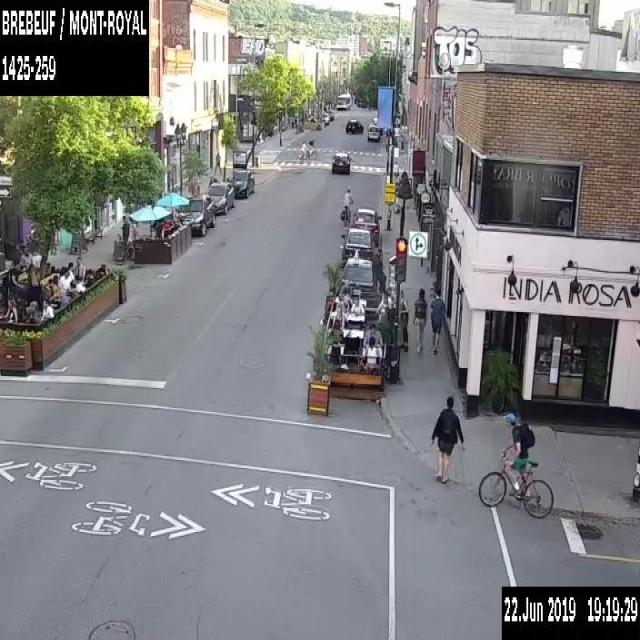bus: (334, 92, 352, 109)
cyclist: (477, 411, 553, 516), (339, 185, 354, 226), (297, 136, 311, 162), (304, 136, 317, 159)
pedestrian: (429, 394, 464, 482), (430, 286, 445, 356), (411, 285, 426, 355), (396, 286, 409, 351), (361, 335, 379, 365), (363, 322, 382, 346), (327, 318, 343, 344), (121, 213, 131, 250), (2, 297, 16, 323), (211, 147, 222, 177), (40, 297, 53, 322), (330, 304, 344, 327), (27, 264, 40, 286), (349, 295, 364, 313), (73, 256, 85, 278), (57, 268, 69, 289), (68, 279, 79, 300), (50, 275, 60, 297), (67, 260, 73, 278)
vehicle: (177, 195, 214, 236), (340, 255, 378, 292), (340, 227, 376, 264), (203, 182, 233, 214), (351, 207, 381, 239), (228, 168, 254, 198), (330, 150, 349, 173), (344, 116, 364, 135), (366, 123, 378, 141)
